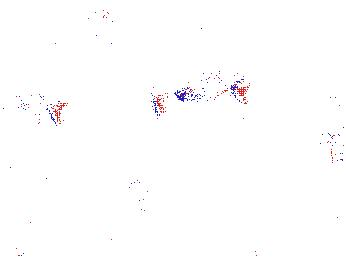X-ray fish: (26, 14, 52, 66), (125, 163, 151, 214)
redtail glassfish: (173, 69, 255, 98), (176, 78, 248, 109), (14, 91, 68, 130), (144, 81, 164, 117)
